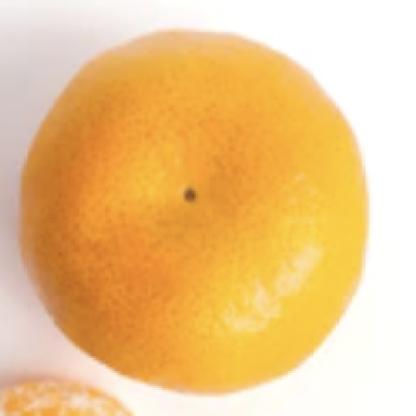fresh: (23, 26, 370, 396)
